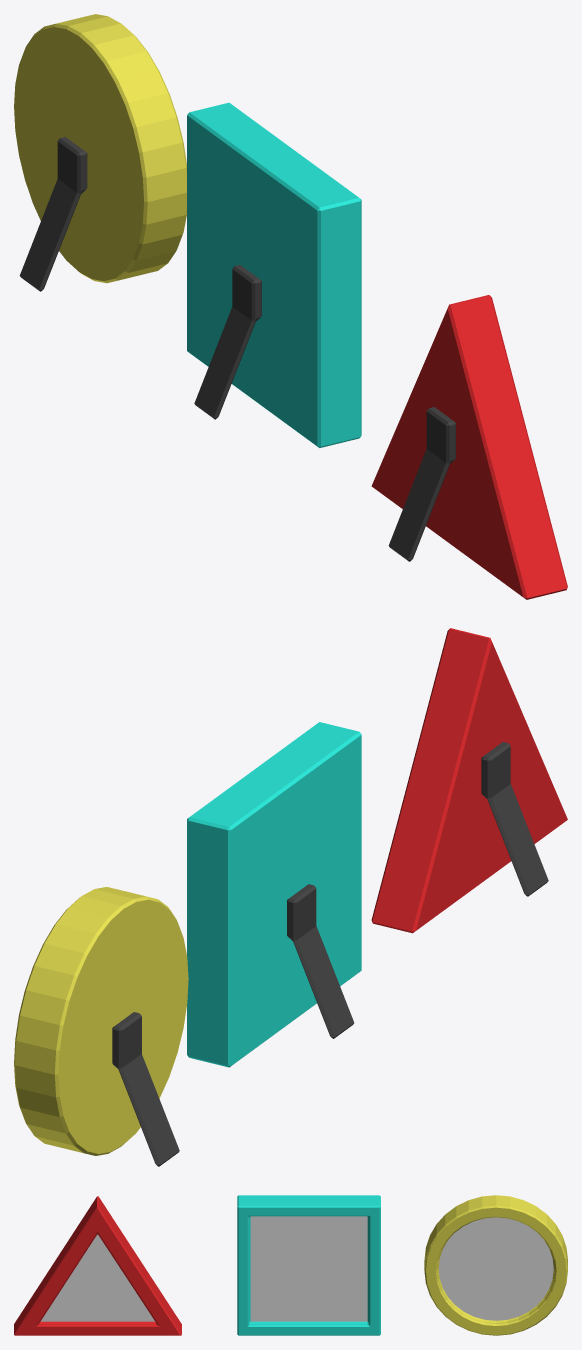
Rendered from Credit.fbx.
3 renders of one model, top to bottom at view 1: azimuth 30°, elevation 25°; view 2: azimuth 150°, elevation 25°; view 3: azimuth 270°, elevation 25°, orthographic. The views are drawn at different scales.
Visible parts, largest first — view 1: Cube, Cylinder, Cube.001; view 2: Cube, Cylinder, Cube.001; view 3: Cube, Cylinder, Cube.001.
Part boxes in pixels (x1,y1,x2,y2): Cube: (187, 102, 361, 447); Cylinder: (14, 14, 186, 291); Cube.001: (371, 295, 567, 599); Cube: (187, 722, 361, 1067); Cylinder: (14, 887, 188, 1166); Cube.001: (371, 628, 567, 933); Cube: (237, 1195, 380, 1335); Cylinder: (424, 1195, 567, 1335); Cube.001: (14, 1196, 181, 1335).
Size of the model in its own units: 80.54 by 200 by 772.
